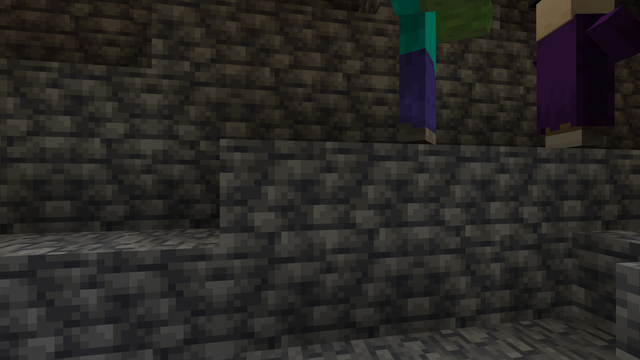sorcieres: (526, 0, 624, 150)
zombies: (380, 2, 463, 147)
